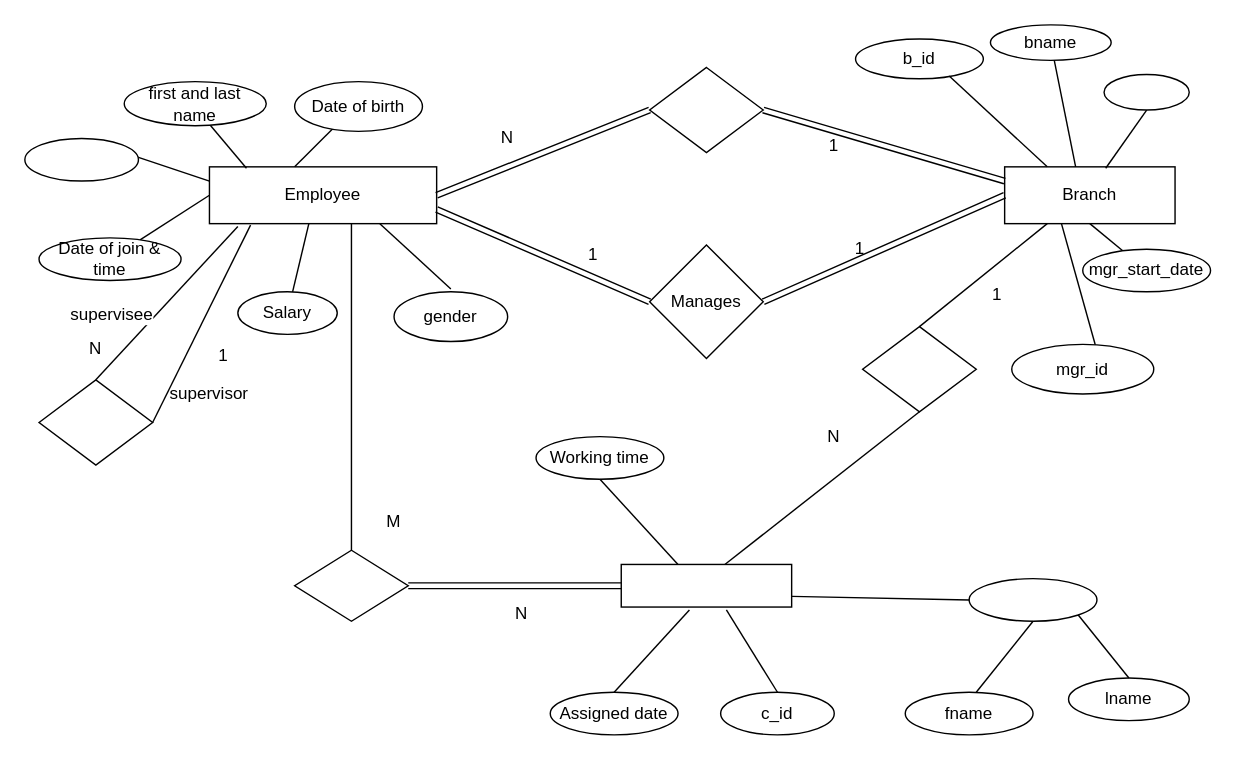
Some shapes in this 1235 by 760 pixel diagram are drawn without their labels. The shapes that lost their labels are listed below. From the top down, each one's centre as x and y in pixels, then its label:
the point at 705,109: Works for a
the point at 1146,91: age
the point at 80,159: emp_id
the point at 918,368: handles
the point at 95,421: Supervision
the point at 350,585: Works with
the point at 706,585: Client
the point at 1032,599: cname
